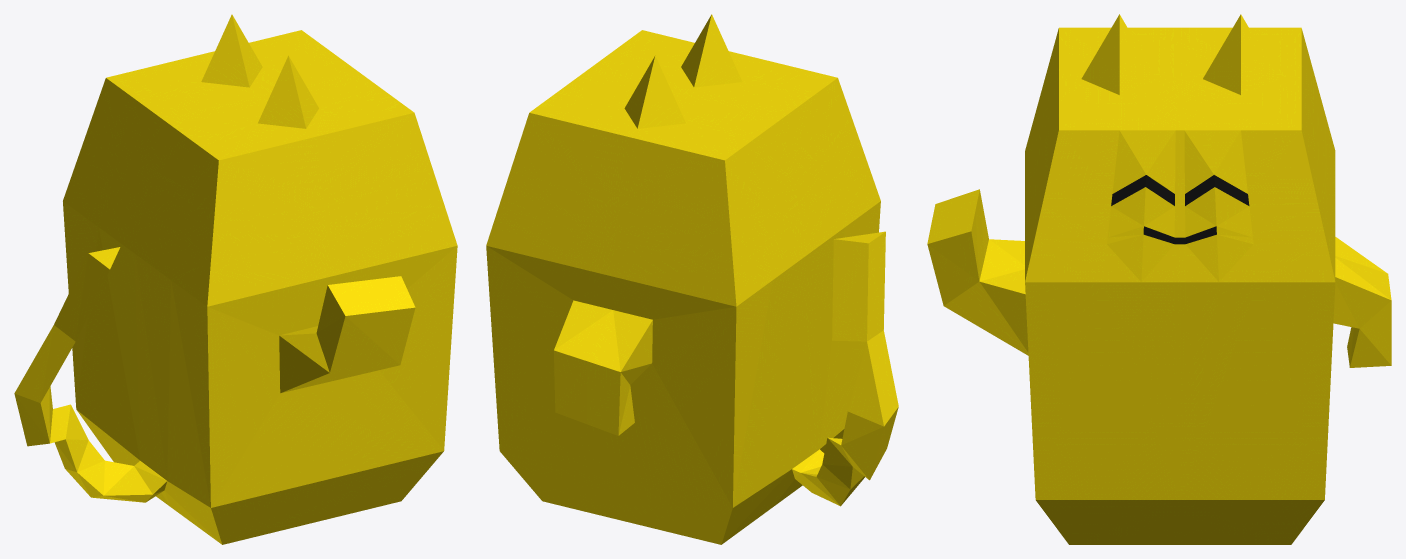
Rendered from CraneGame_prize_3.glb.
3 views of the same model, side by side, from view 1: azimuth 30°, elevation 25°; view 2: azimuth 150°, elevation 25°; view 3: azimuth 270°, elevation 25° (orthographic). The views are drawn at different scales.
Visible parts, largest first — view 1: prize_3; view 2: prize_3; view 3: prize_3.
Boxes of the visible parts, x1,y1,x2,y2 form: prize_3: [14, 14, 457, 544]; prize_3: [486, 14, 898, 544]; prize_3: [927, 14, 1391, 544].
Size of the model in its own units: 0.7039 by 0.8701 by 0.7564.
1 material, 1 textured.
